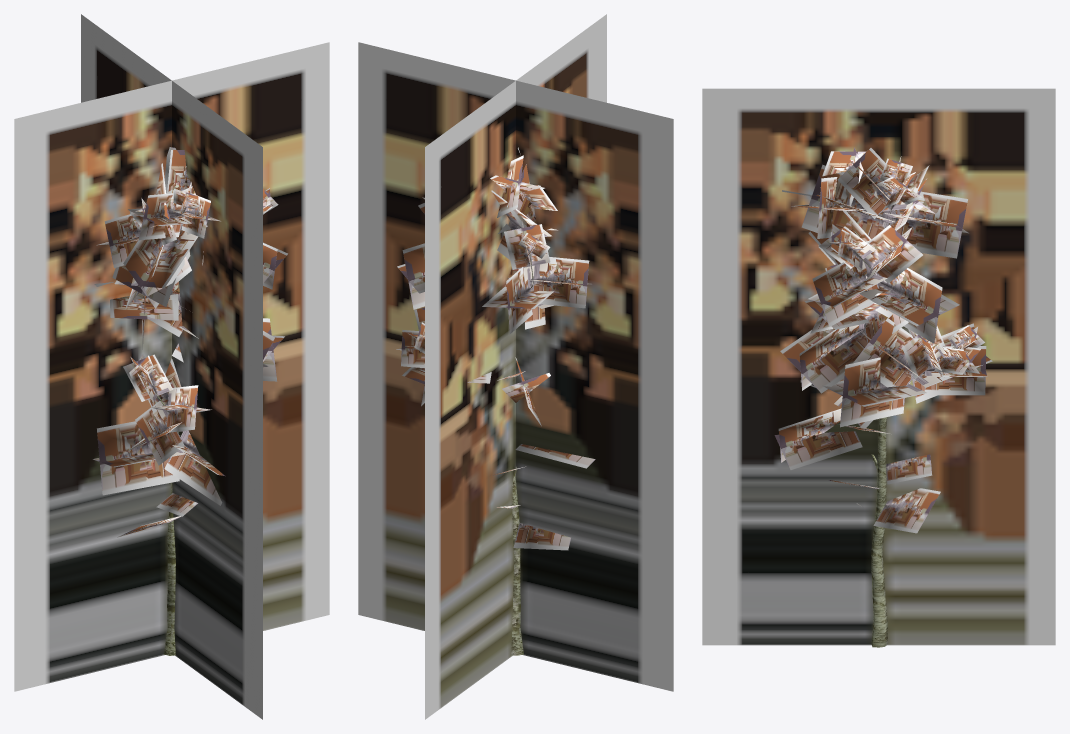
File: Tree-Beech3D.fbx
3 views of the same model, side by side, from view 1: azimuth 30°, elevation 25°; view 2: azimuth 150°, elevation 25°; view 3: azimuth 270°, elevation 25° (orthographic). The views are drawn at different scales.
Visible parts, largest first — view 1: Billboard-BeechD, Tree-Beech3D_LOD0; view 2: Billboard-BeechD, Tree-Beech3D_LOD0; view 3: Billboard-BeechD, Tree-Beech3D_LOD0.
Part boxes in pixels (x1,y1,x2,y2): Billboard-BeechD: (14,14,329,719); Tree-Beech3D_LOD0: (93,147,287,655); Billboard-BeechD: (358,14,673,719); Tree-Beech3D_LOD0: (396,147,595,655); Billboard-BeechD: (702,88,1055,645); Tree-Beech3D_LOD0: (774,147,992,647).
Size of what is drawn, in the model's own units: 946 by 1642 by 946.
